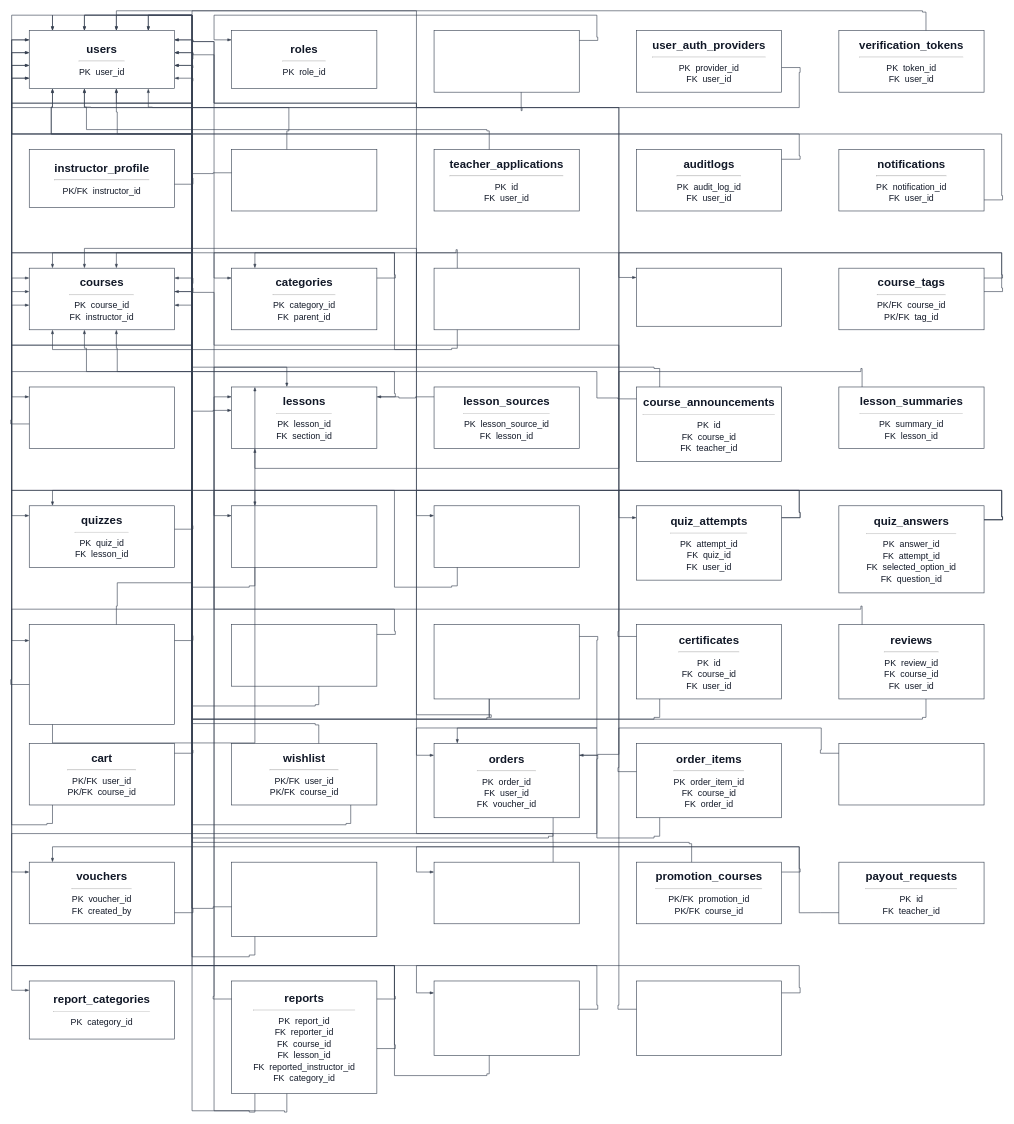
Some shapes in this 1014 by 1124 pixel diagram are drawn without their labels. Here are the shapes that lost their labels. From the top down, the centre of each, then its label:
At pixel 506 61: "user_role PK/FK user_id PK/FK role_id".
At pixel 304 180: "instructor_follows PK/FK follower_id PK/FK instructor_id".
At pixel 506 299: "course_categories PK/FK course_id PK/FK category_id".
At pixel 709 297: "tags PK tag_id".
At pixel 102 417: "sections PK section_id FK course_id".
At pixel 304 536: "quiz_questions PK question_id FK quiz_id".
At pixel 506 536: "quiz_options PK option_id FK question_id".
At pixel 102 674: "lesson_qa PK qa_id FK lesson_id FK parent_id FK reply_to_user_id FK user_id".
At pixel 304 655: "lesson_progress PK/FK user_id PK/FK lesson_id".
At pixel 506 661: "enrollments PK/FK course_id PK/FK user_id FK order_id".
At pixel 911 774: "payments PK payment_id FK order_id".
At pixel 304 899: "user_vouchers PK user_voucher_id FK user_id FK voucher_id".
At pixel 506 893: "promotions PK promotion_id FK created_by".
At pixel 506 1017: "support_conversations PK conversation_id FK user_id FK assigned_admin_id".
At pixel 709 1017: "support_messages PK message_id FK conversation_id FK sender_id".
